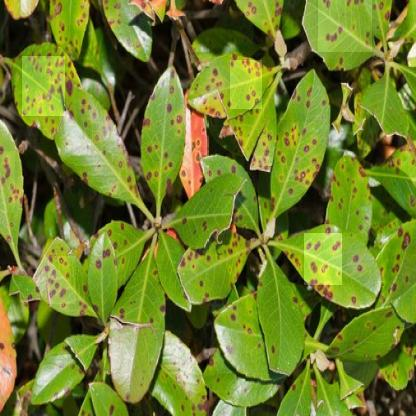black-spot: (318, 0, 372, 52), (22, 57, 65, 116), (282, 122, 316, 182), (304, 233, 342, 285), (156, 96, 182, 169), (230, 60, 262, 109), (48, 256, 76, 304), (0, 151, 15, 213)
